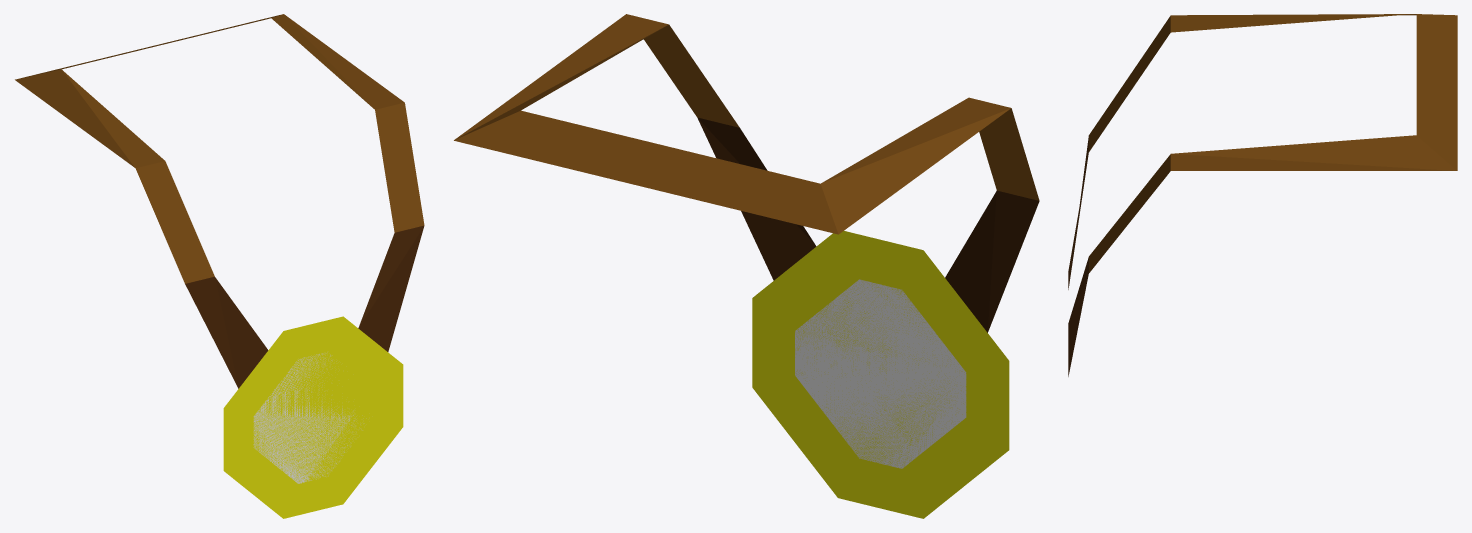
The model's file is model_290_obj_wear.obj.
3 views of the same model, side by side, from view 1: azimuth 30°, elevation 25°; view 2: azimuth 150°, elevation 25°; view 3: azimuth 270°, elevation 25° (orthographic). The views are drawn at different scales.
Visible parts, largest first — view 1: 290; view 2: 290; view 3: 290.
Boxes of the visible parts, x1=… form: 290: x1=15, y1=14, x2=424, y2=518; 290: x1=454, y1=14, x2=1039, y2=518; 290: x1=1068, y1=14, x2=1457, y2=376.
Bounding box in the file's own units: 18 × 23 × 19.
